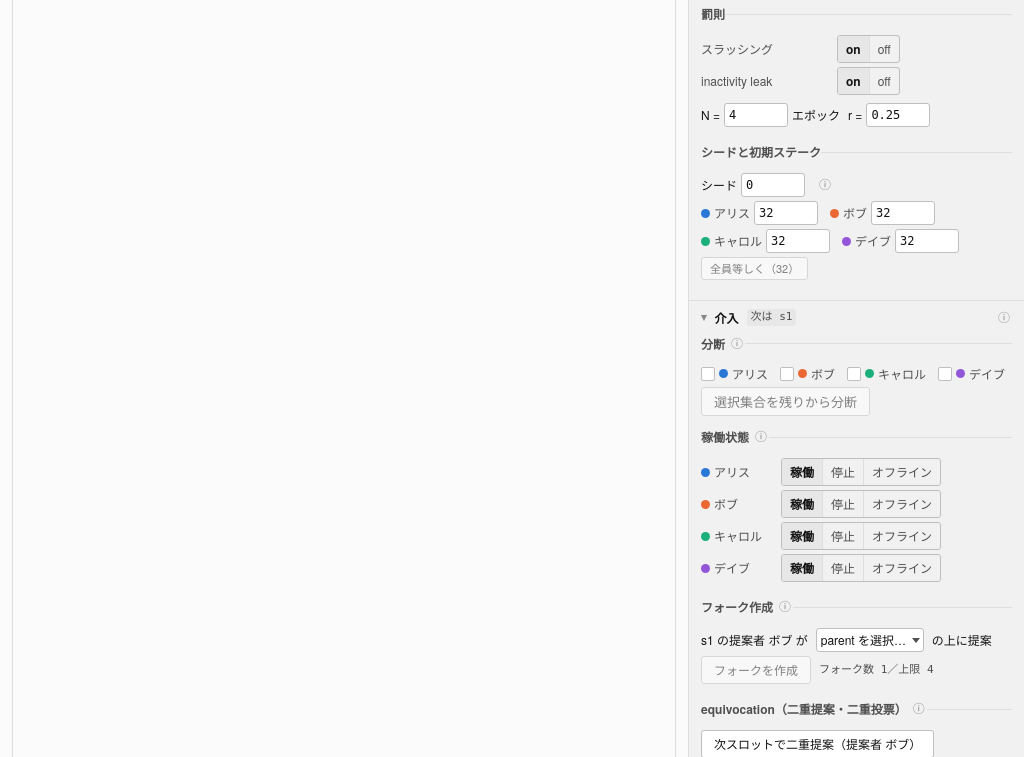
Test: empty states explain the next step › replaces the empty hints once content exists
(page scrolled)
Click the checkbox labelled "アリス".
click(708, 374)  # box [701,366,715,380]
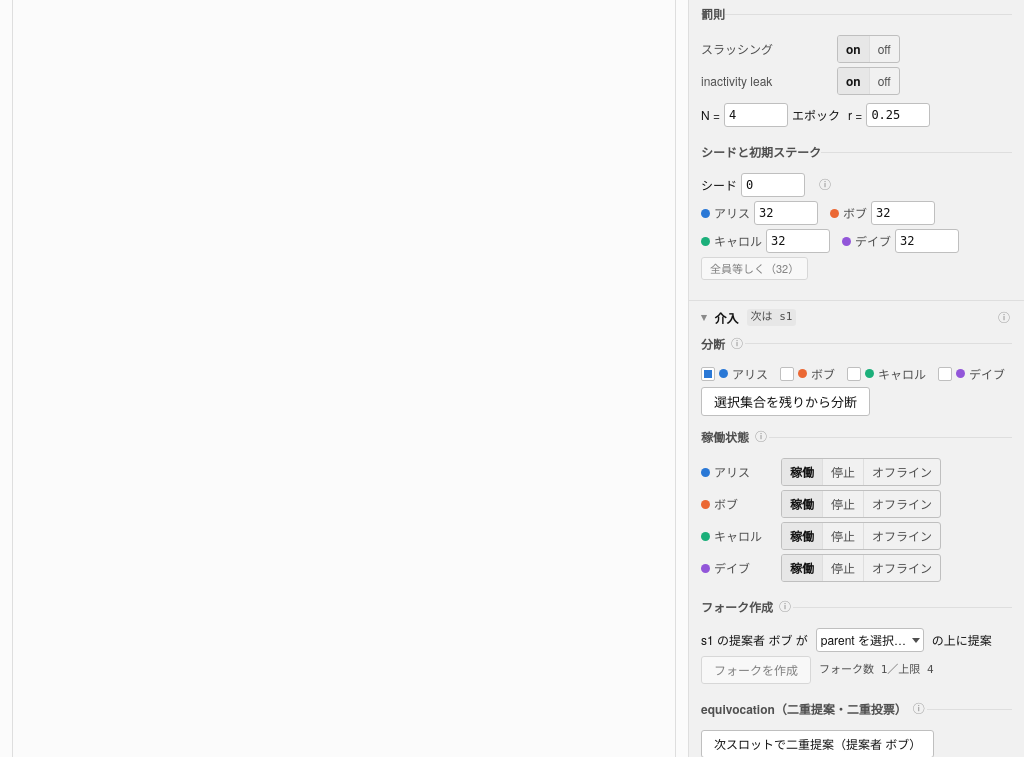
Click the button "選択集合を残りから分断".
click(786, 401)  # box [701,386,870,416]
(page scrolled)
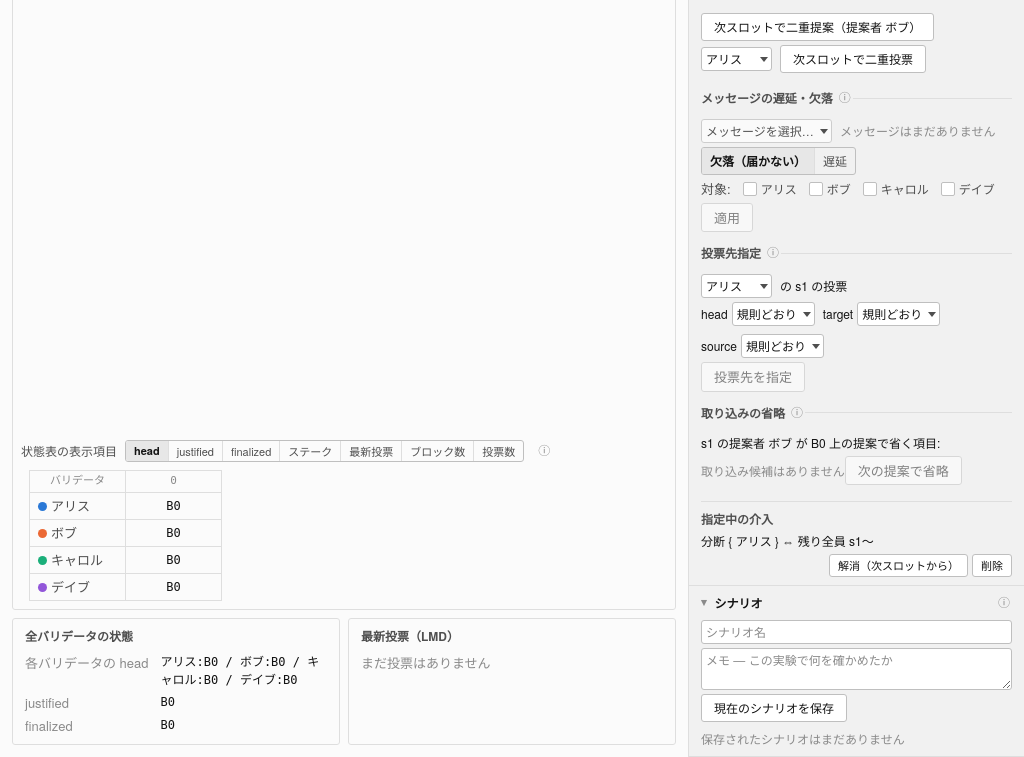
Click the button "現在のシナリオを保存".
click(774, 708)  # box [701,694,847,722]
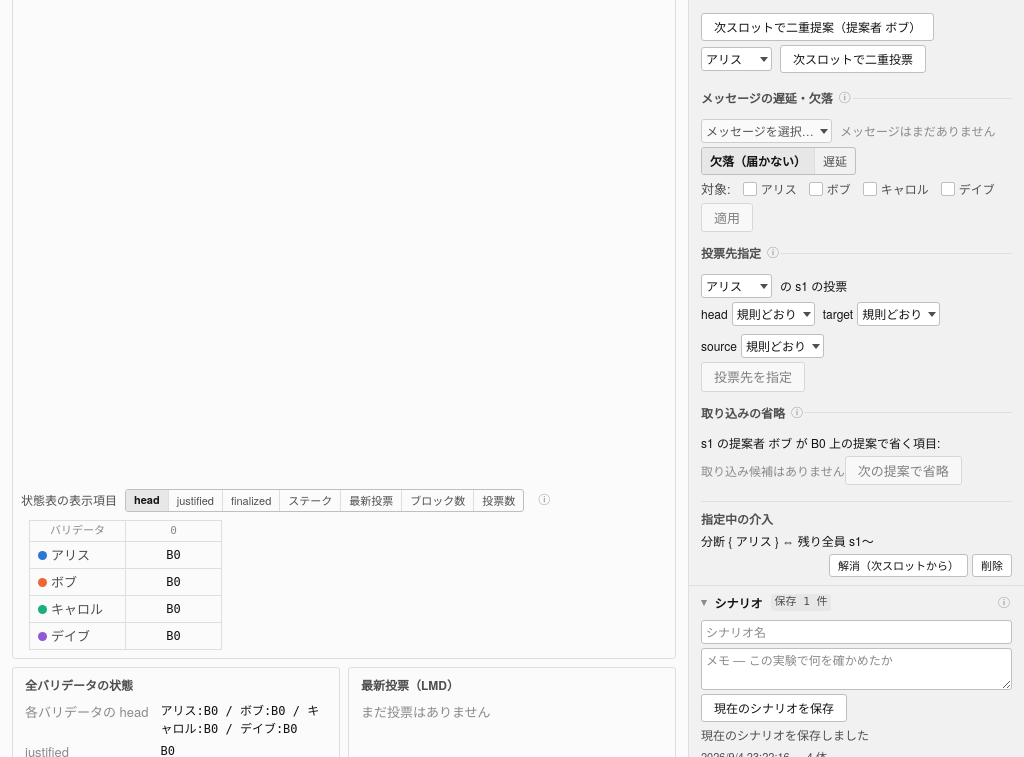
Now the text with class "empty-hint" is gone
